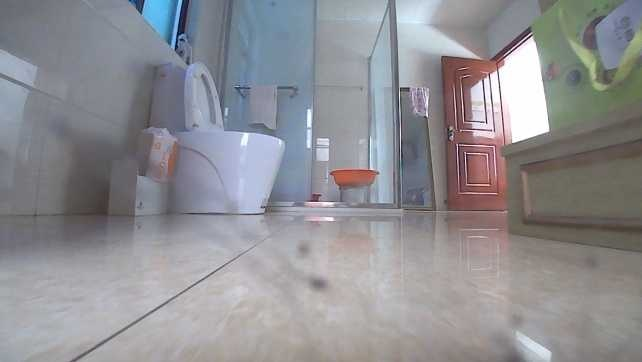door_anno: (440, 53, 511, 210)
door_sill: (306, 200, 401, 213)
toilet: (148, 60, 286, 216)
